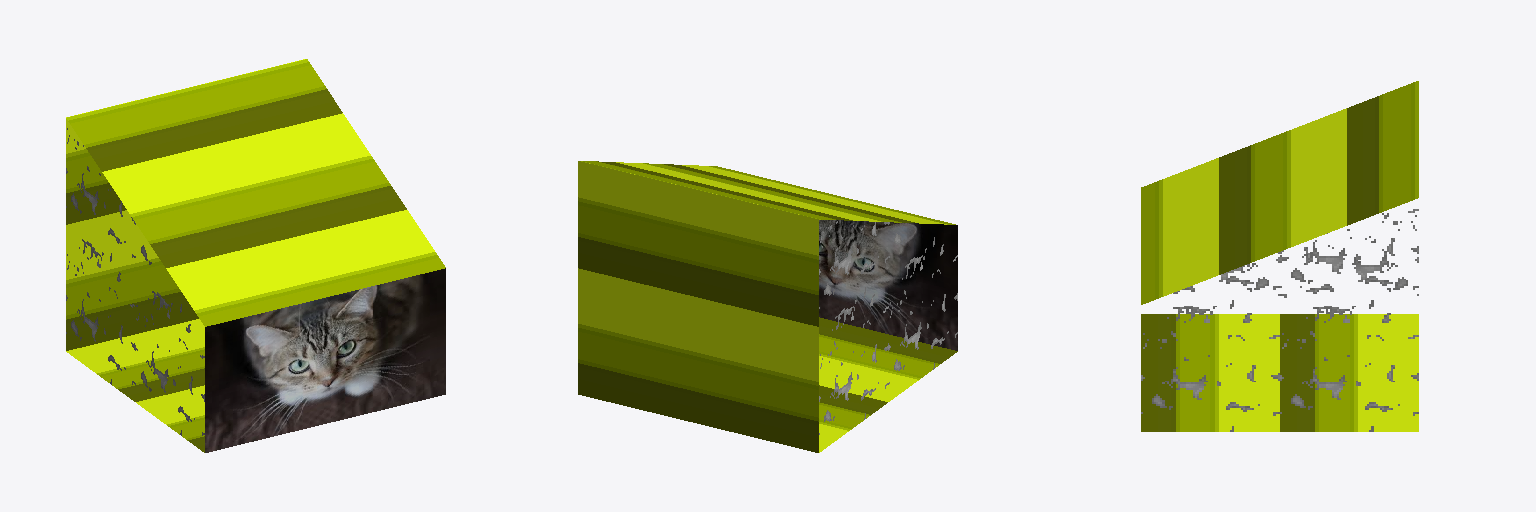
The picture shows the model from 3 angles: view 1: azimuth 30°, elevation 25°; view 2: azimuth 150°, elevation 25°; view 3: azimuth 270°, elevation 25°; orthographic projection.
Visible parts, largest first — view 1: simple-SKP--Material2, simple-SKP--Wax_02, simple-SKP--Material1; view 2: simple-SKP--Material2, simple-SKP--Wax_02, simple-SKP--Material1; view 3: simple-SKP--Material2, simple-SKP--Material1.
Boxes of the visible parts, box(x1,y1,x2,y2) form: simple-SKP--Material2: box(66, 59, 445, 452); simple-SKP--Wax_02: box(205, 268, 445, 452); simple-SKP--Material1: box(66, 128, 204, 435); simple-SKP--Material2: box(578, 161, 957, 452); simple-SKP--Wax_02: box(819, 220, 957, 350); simple-SKP--Material1: box(819, 221, 957, 434); simple-SKP--Material2: box(1141, 81, 1418, 431); simple-SKP--Material1: box(1141, 209, 1418, 431).
Size of the model in its own units: 4000 by 3704 by 4000.
3 materials, 3 textured.